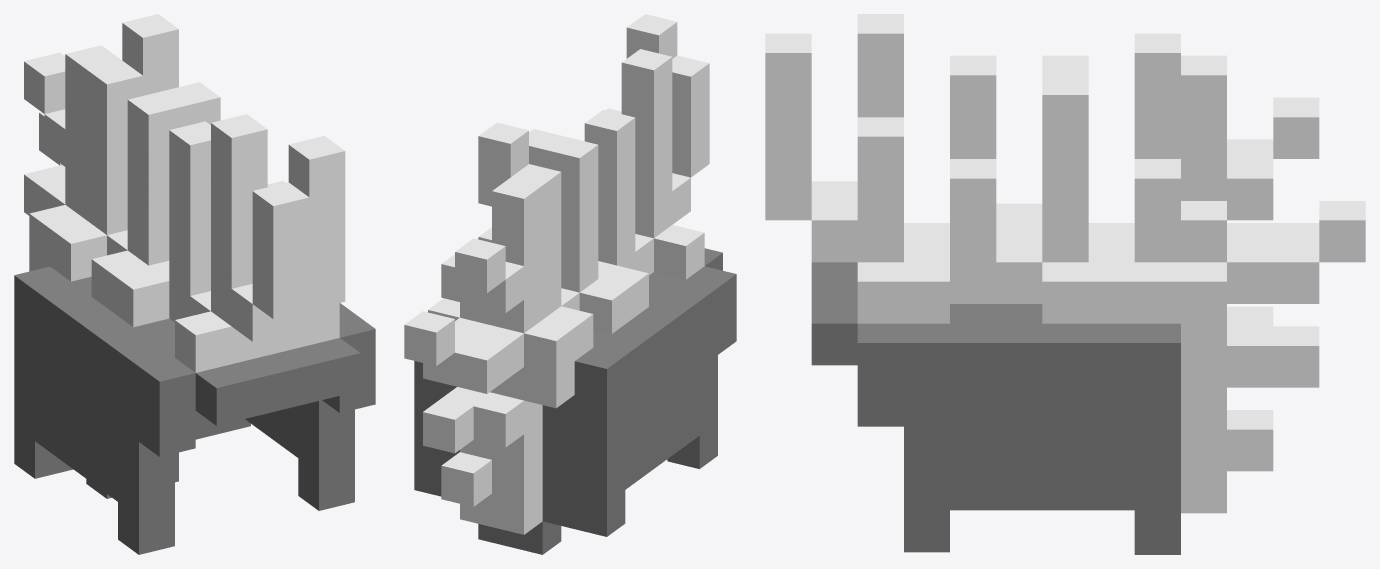
The model's file is ireokez.dae.
3 renders of one model, left to right at view 1: azimuth 30°, elevation 25°; view 2: azimuth 150°, elevation 25°; view 3: azimuth 270°, elevation 25°, orthographic. The views are drawn at different scales.
Parts seen in each view (by area): view 1: Content; view 2: Content; view 3: Content.
Part boxes in pixels (bbox=[...]): Content: bbox=[14, 14, 375, 554]; Content: bbox=[404, 14, 736, 554]; Content: bbox=[765, 14, 1365, 554].
Size of the model in its own units: 6 by 12 by 13.
1 material, 1 textured.
